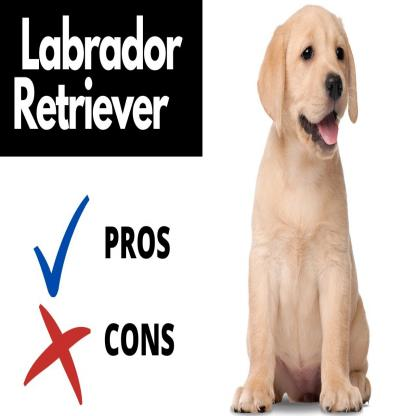Labarador Retriever: (230, 3, 372, 412)
